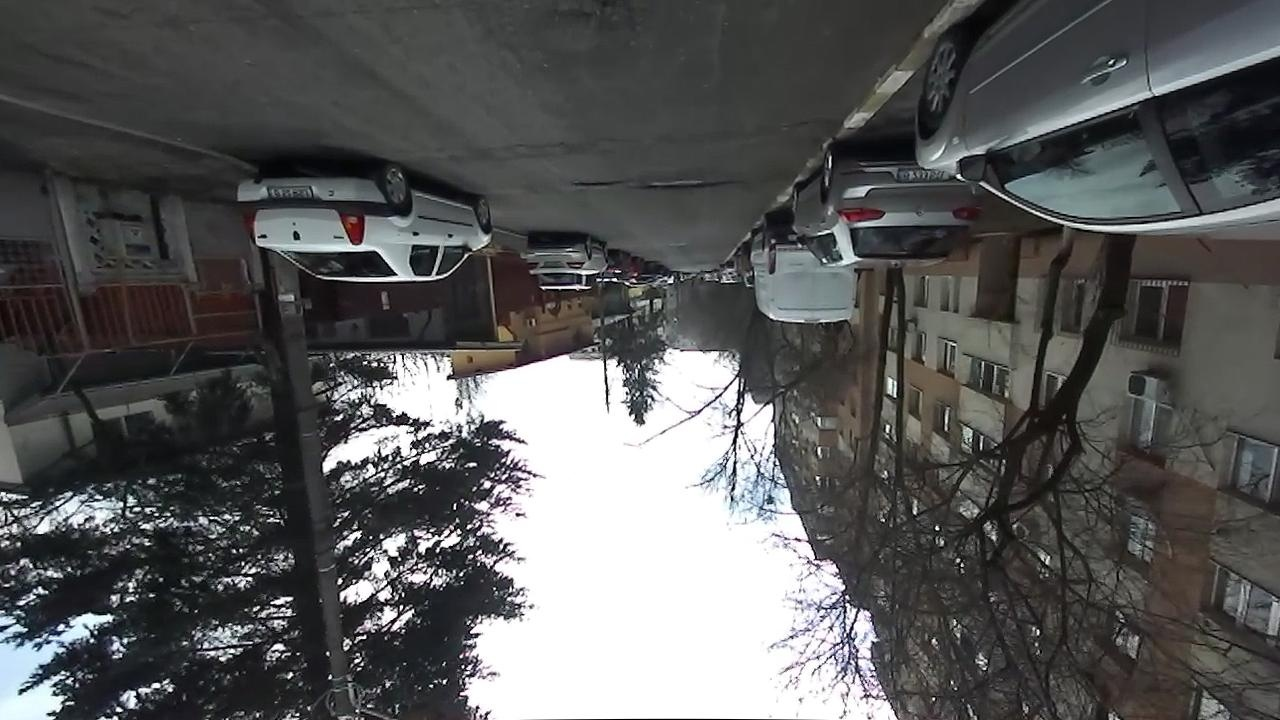pothole: (545, 2, 626, 26), (639, 174, 735, 191), (570, 177, 623, 190)
